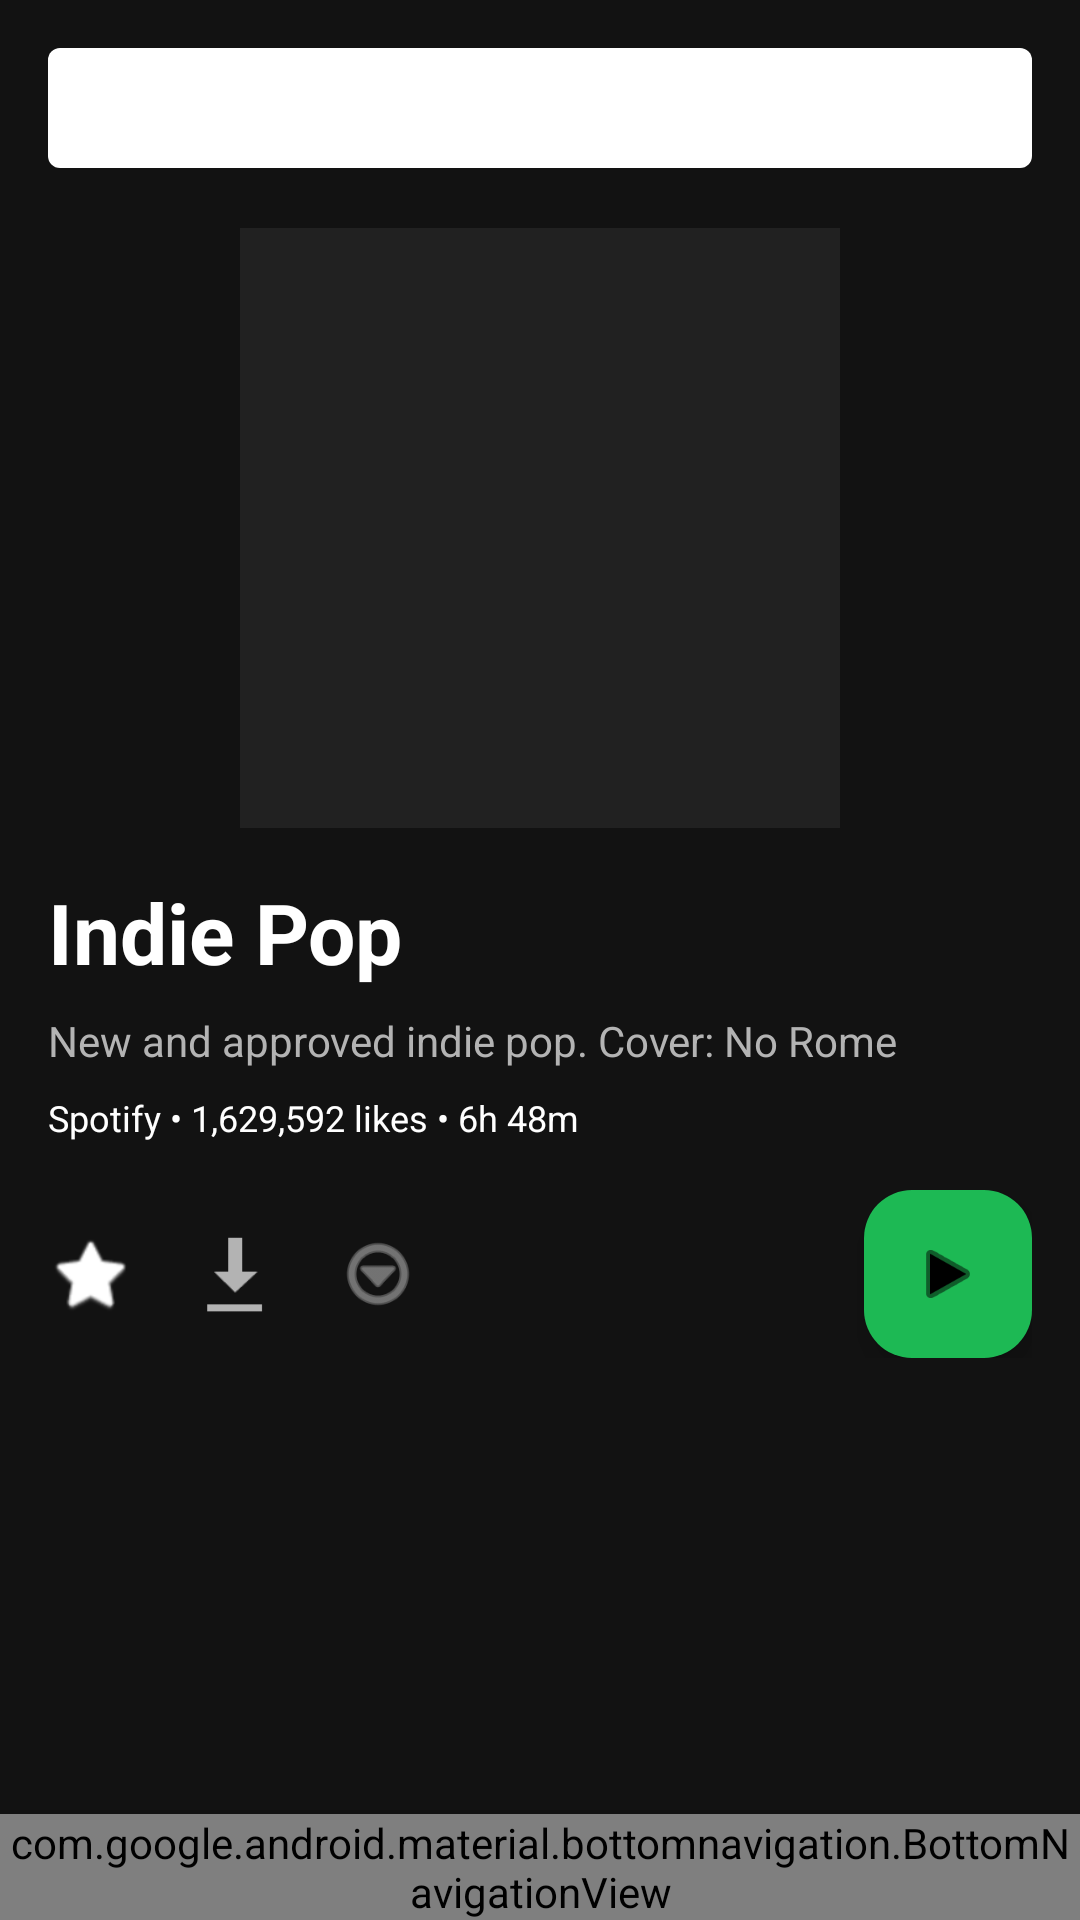

Screen size 1080 x 1920. Icon name, then its center in pixels as (x=x, y=y):
download: (x=234, y=1274)
more: (x=378, y=1274)
play: (x=948, y=1274)
star: (x=91, y=1275)
